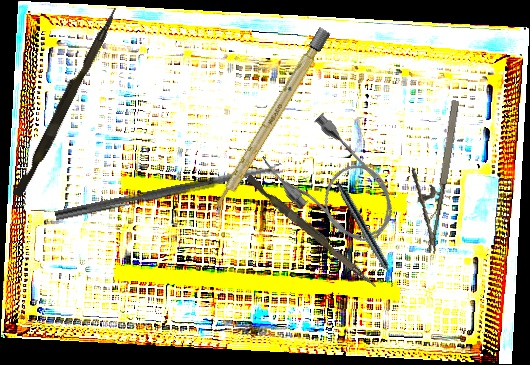Cannula: (255, 105, 412, 263)
Handpiece: (332, 181, 401, 288)
Needle Holder: (396, 94, 465, 255)
Pusher: (12, 2, 120, 201), (243, 174, 381, 289)
Scalpel Handle: (210, 26, 331, 217)
Surgical Spoon: (54, 163, 284, 222)
